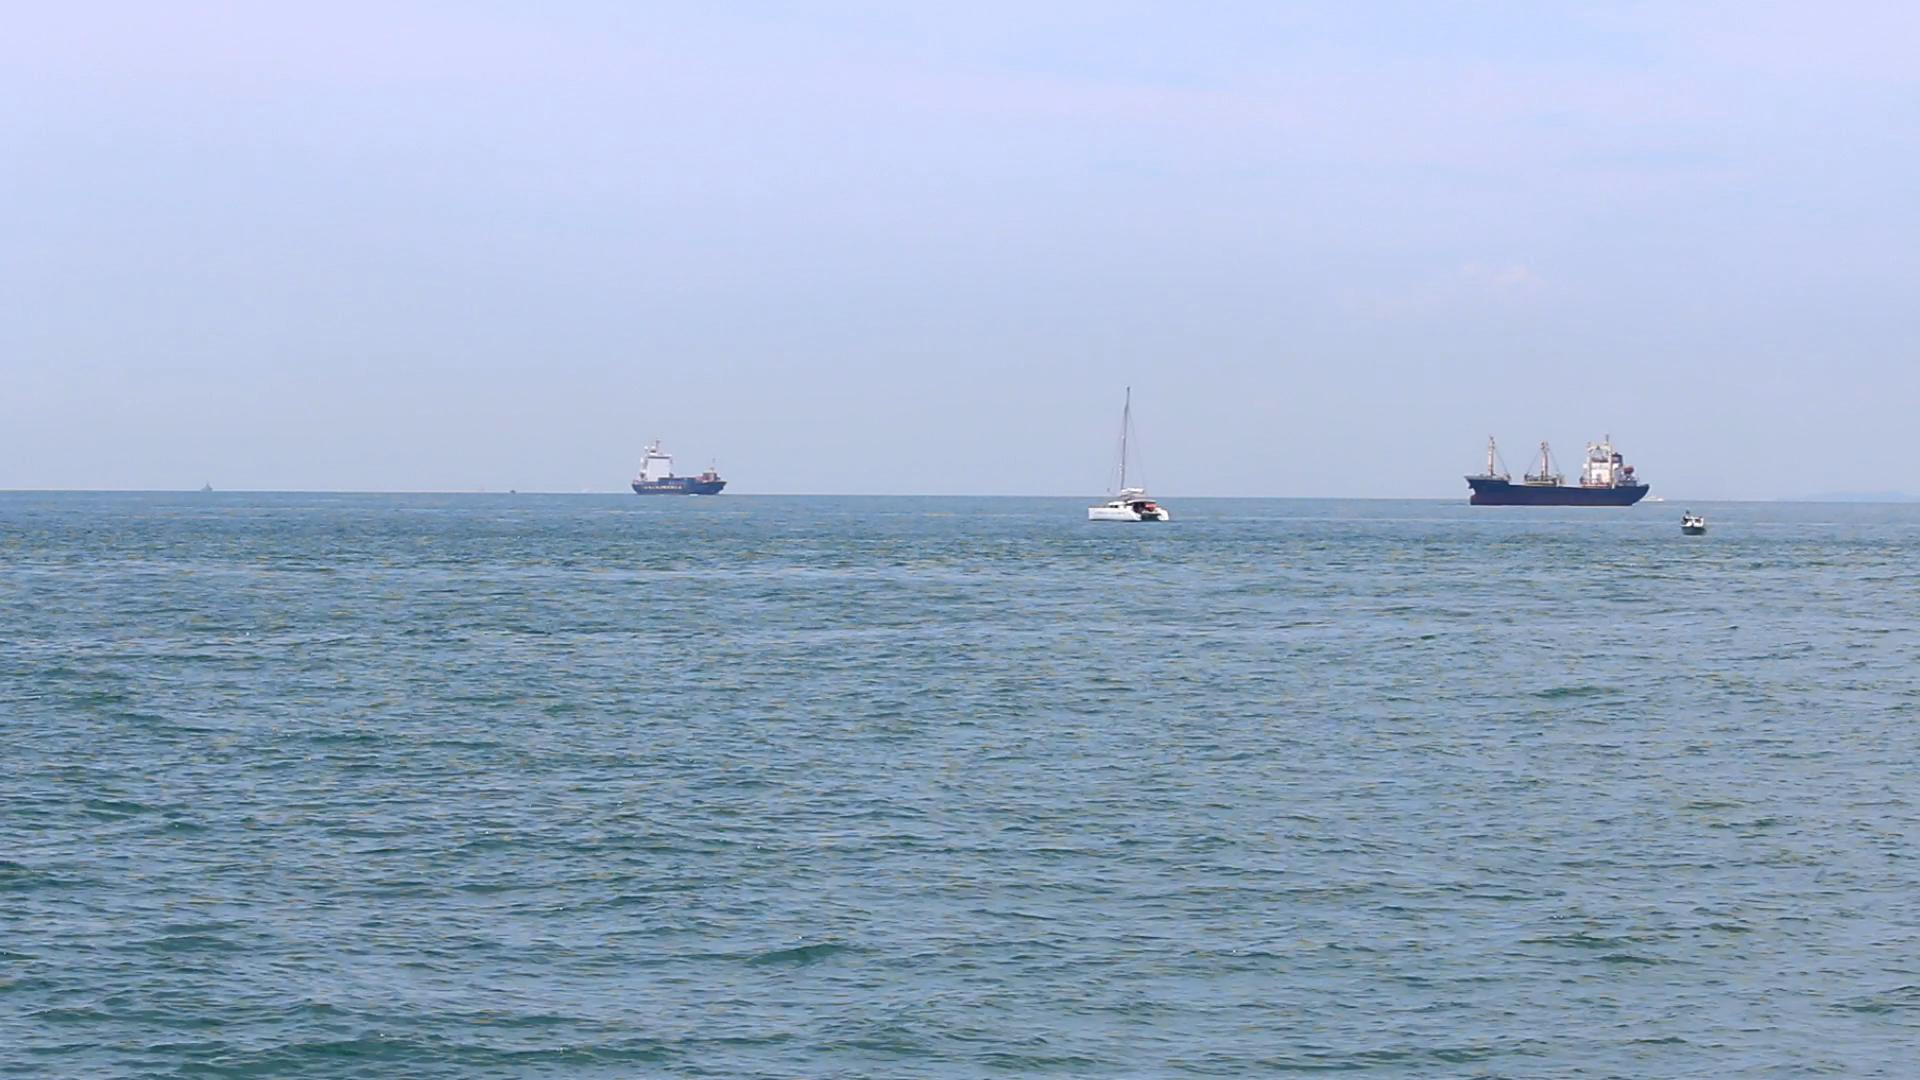Container Ship: (1468, 433, 1654, 508), (629, 439, 729, 498)
